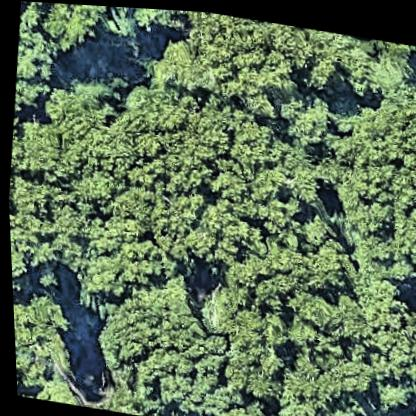tree-top: (111, 70, 267, 190), (93, 281, 225, 413), (173, 8, 305, 108), (277, 286, 379, 404), (73, 213, 182, 307), (10, 287, 78, 393), (215, 309, 290, 400), (352, 80, 416, 178), (185, 196, 257, 266), (7, 114, 76, 185), (274, 85, 338, 151), (37, 2, 113, 53), (297, 226, 353, 294), (11, 33, 55, 116), (381, 181, 416, 273), (268, 388, 362, 416), (364, 50, 412, 100), (125, 6, 193, 37), (23, 375, 88, 406), (361, 379, 415, 416), (8, 233, 31, 311), (369, 374, 411, 415), (355, 405, 412, 416)
